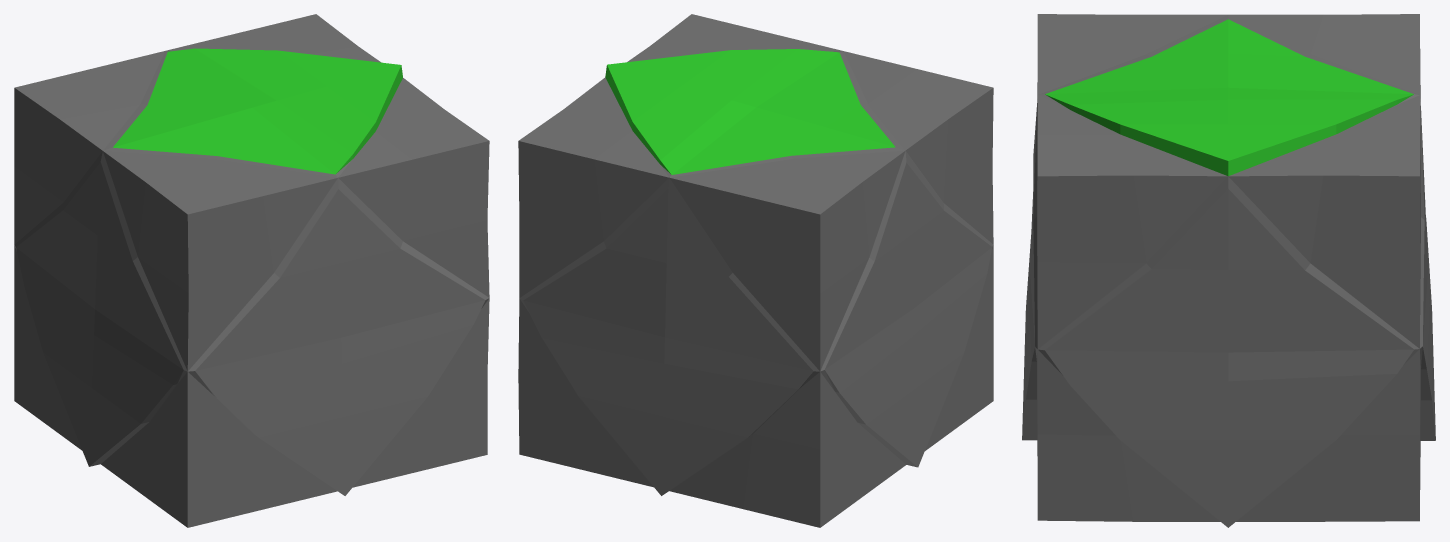
Rendered from Wall 1.fbx.
3 views of the same model, side by side, from view 1: azimuth 30°, elevation 25°; view 2: azimuth 150°, elevation 25°; view 3: azimuth 270°, elevation 25° (orthographic). The views are drawn at different scales.
Parts seen in each view (by area): view 1: Wall; view 2: Wall; view 3: Wall.
Boxes of the visible parts, x1,y1,x2,y2 form: Wall: (14, 14, 489, 527); Wall: (518, 14, 993, 527); Wall: (1022, 14, 1435, 527).
Bounding box in the file's own units: 109 × 104 × 109.
